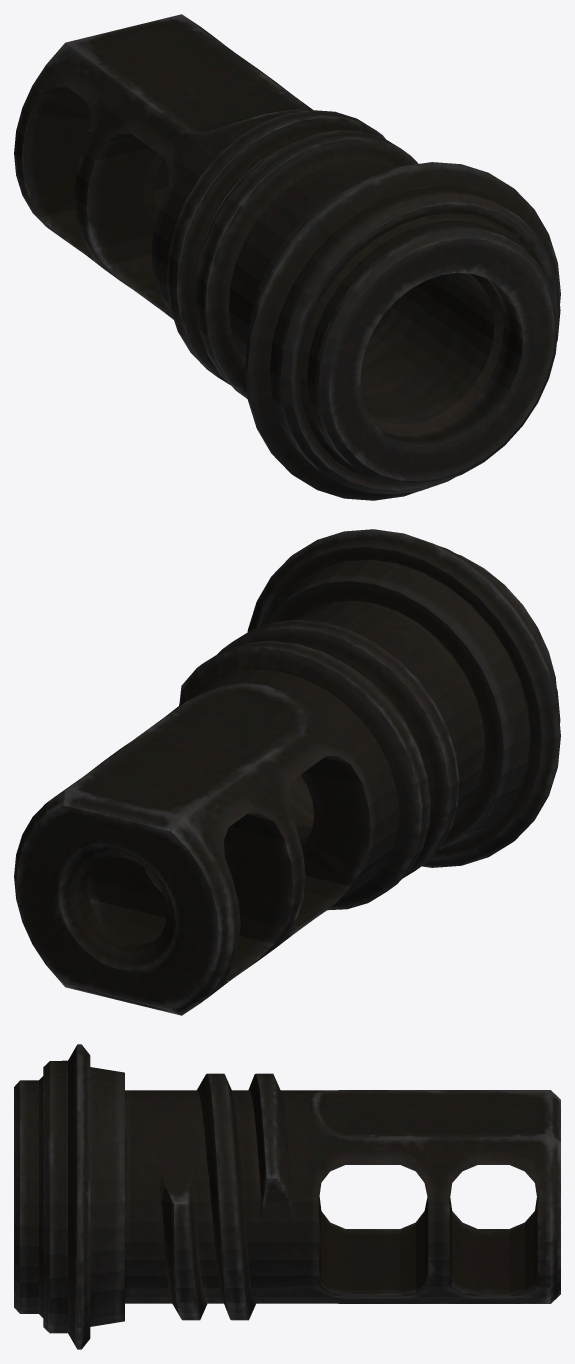
3 renders of one model, top to bottom at view 1: azimuth 30°, elevation 25°; view 2: azimuth 150°, elevation 25°; view 3: azimuth 270°, elevation 25°, orthographic. The views are drawn at different scales.
Parts seen in each view (by area): view 1: TW_5d1f819086f7744b355c219b_PZ_Import; view 2: TW_5d1f819086f7744b355c219b_PZ_Import; view 3: TW_5d1f819086f7744b355c219b_PZ_Import.
Part boxes in pixels (x1=…): TW_5d1f819086f7744b355c219b_PZ_Import: x1=14, y1=14, x2=560, y2=500; TW_5d1f819086f7744b355c219b_PZ_Import: x1=14, y1=529, x2=560, y2=1015; TW_5d1f819086f7744b355c219b_PZ_Import: x1=14, y1=1044, x2=560, y2=1349.
Bounding box in the file's own units: 0.0178 × 0.0319 × 0.0178.
1 material, 1 textured.
